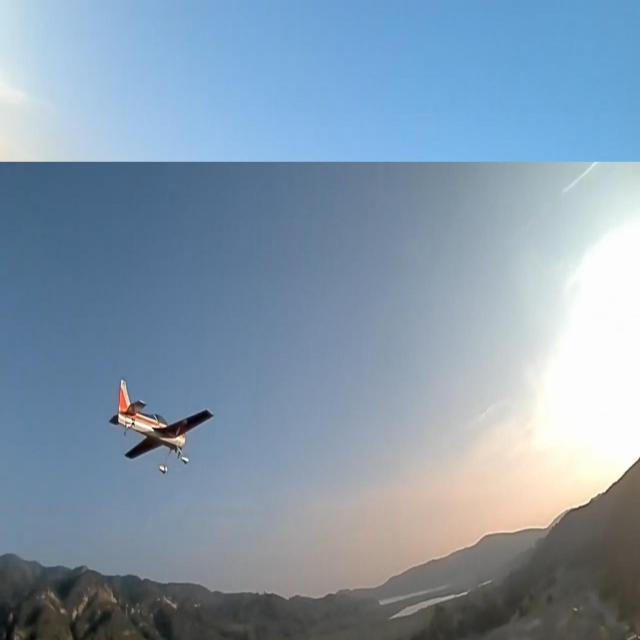iha: (137, 408, 184, 443)
